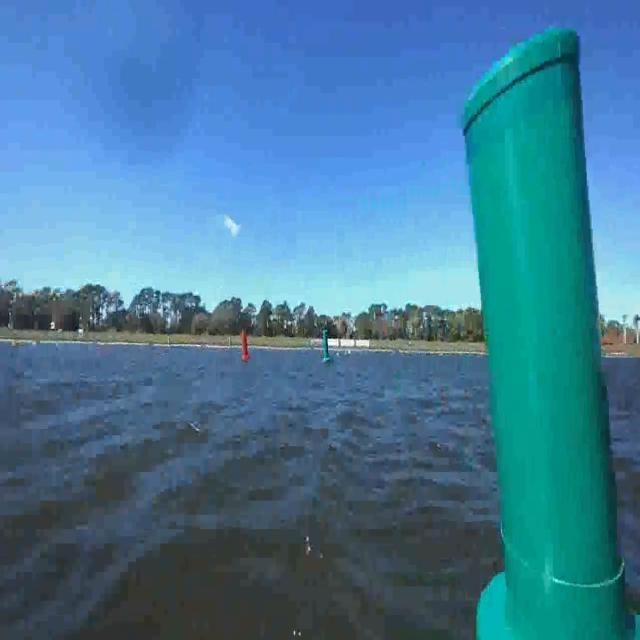green-column-buoy: (452, 20, 640, 640), (323, 331, 336, 365)
red-column-buoy: (238, 332, 249, 362)
